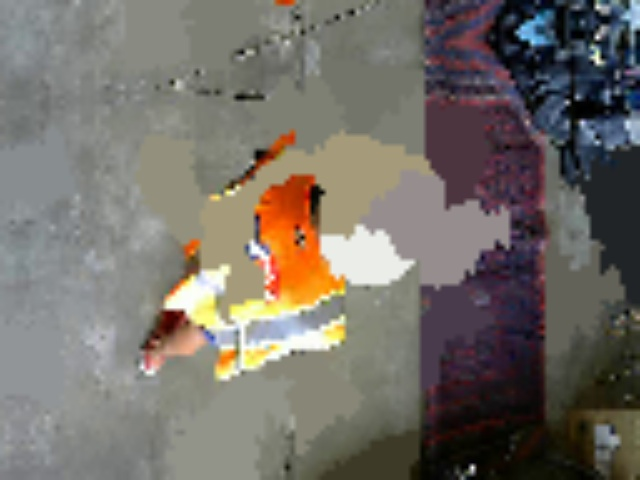three: (346, 188, 391, 246)
